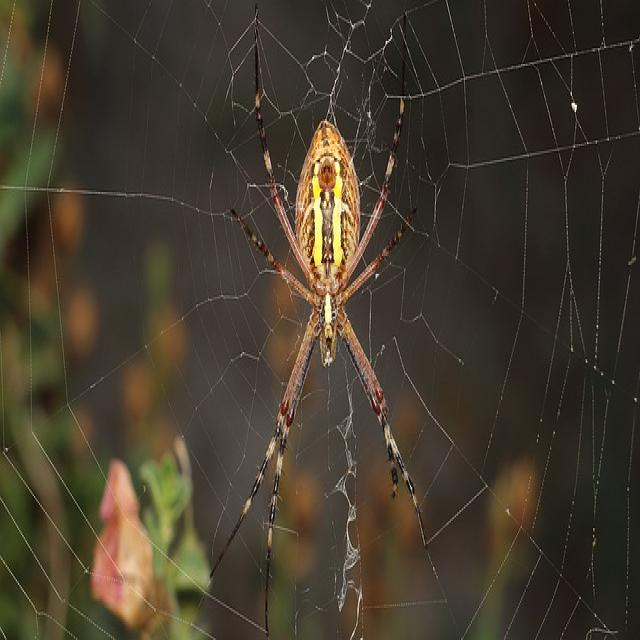spyder: (212, 16, 425, 626)
